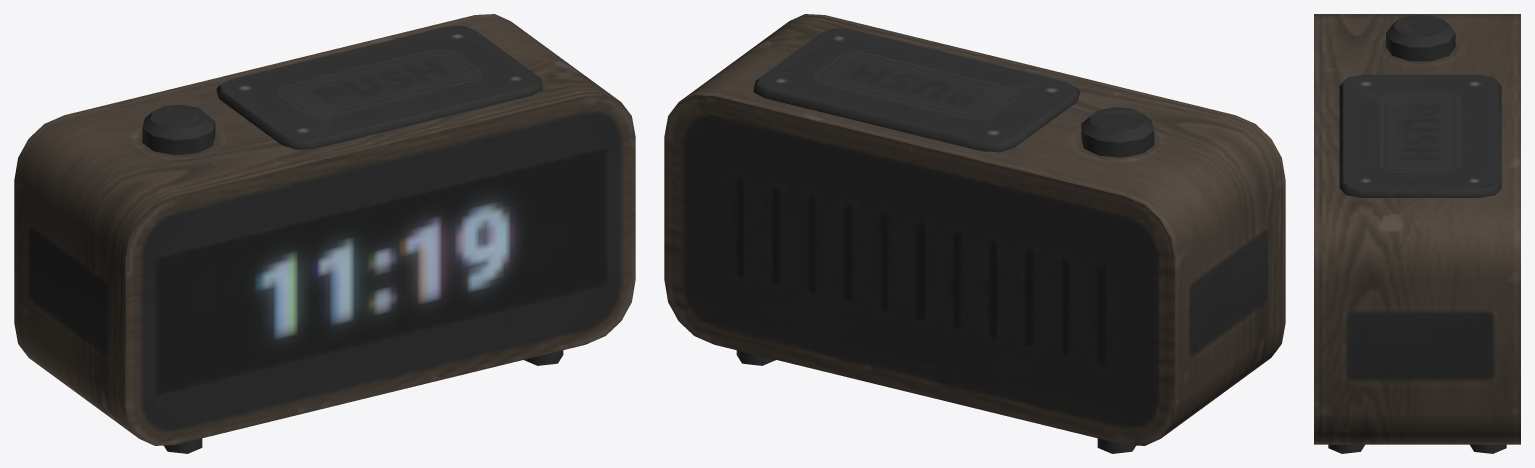
The model's file is SM_Clock2.fbx.
3 renders of one model, left to right at view 1: azimuth 30°, elevation 25°; view 2: azimuth 150°, elevation 25°; view 3: azimuth 270°, elevation 25°, orthographic. The views are drawn at different scales.
Parts seen in each view (by area): view 1: SM_Clock2_LOD0; view 2: SM_Clock2_LOD0; view 3: SM_Clock2_LOD0.
Part boxes in pixels (x1,y1,x2,y2): SM_Clock2_LOD0: (14, 14, 635, 453); SM_Clock2_LOD0: (664, 14, 1285, 453); SM_Clock2_LOD0: (1314, 14, 1520, 453).
Size of the model in its own units: 34.7 by 13.04 by 18.91.
